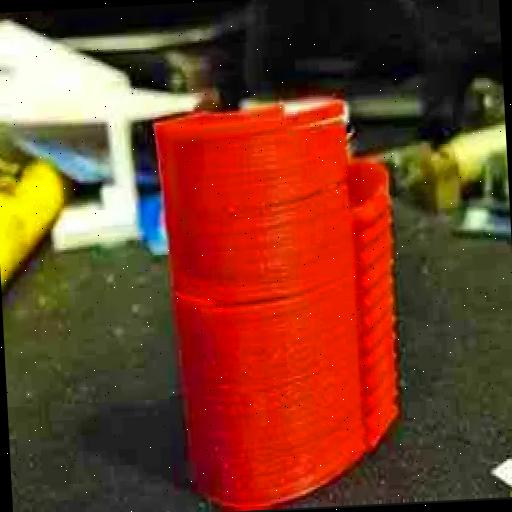cracks: (194, 275, 340, 318), (245, 109, 347, 143), (274, 171, 349, 215)
